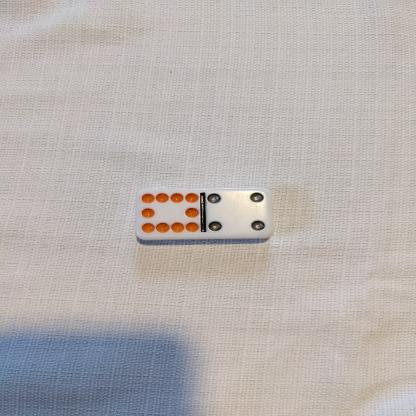pip-10: (136, 188, 202, 239)
pip-4: (204, 187, 270, 238)
